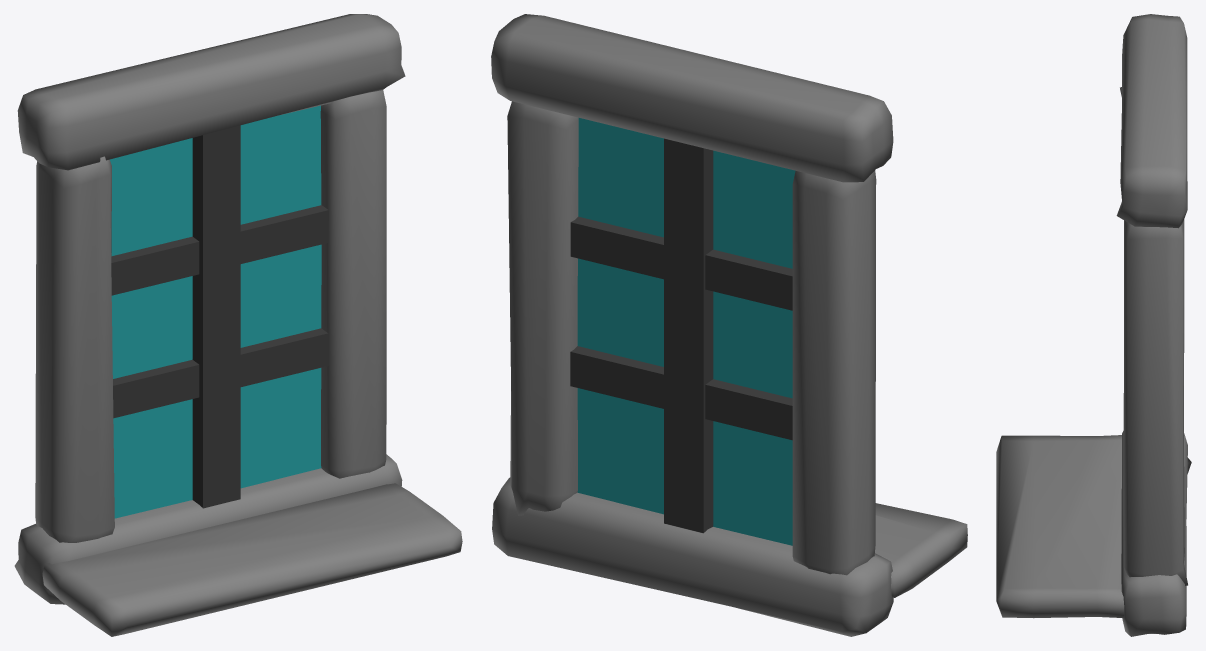
File: SM_window_06.fbx
3 views of the same model, side by side, from view 1: azimuth 30°, elevation 25°; view 2: azimuth 150°, elevation 25°; view 3: azimuth 270°, elevation 25° (orthographic). The views are drawn at different scales.
Parts seen in each view (by area): view 1: Object342444; view 2: Object342444; view 3: Object342444.
Boxes of the visible parts, x1=… form: Object342444: x1=14, y1=14, x2=462, y2=636; Object342444: x1=491, y1=14, x2=967, y2=636; Object342444: x1=996, y1=14, x2=1191, y2=636.
Size of the model in its own units: 36.86 by 48.95 by 18.52.
